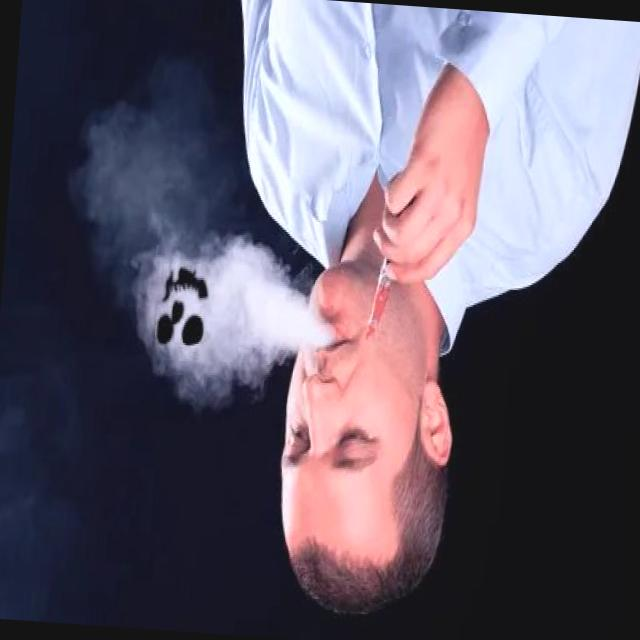cigarette: (362, 245, 397, 349)
